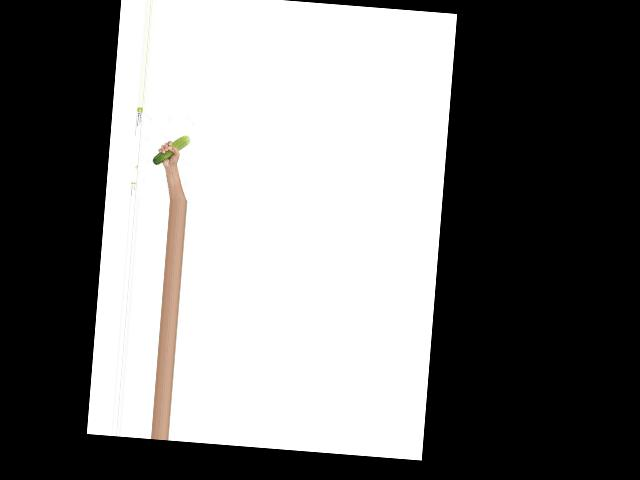cucumber: (151, 133, 189, 168)
